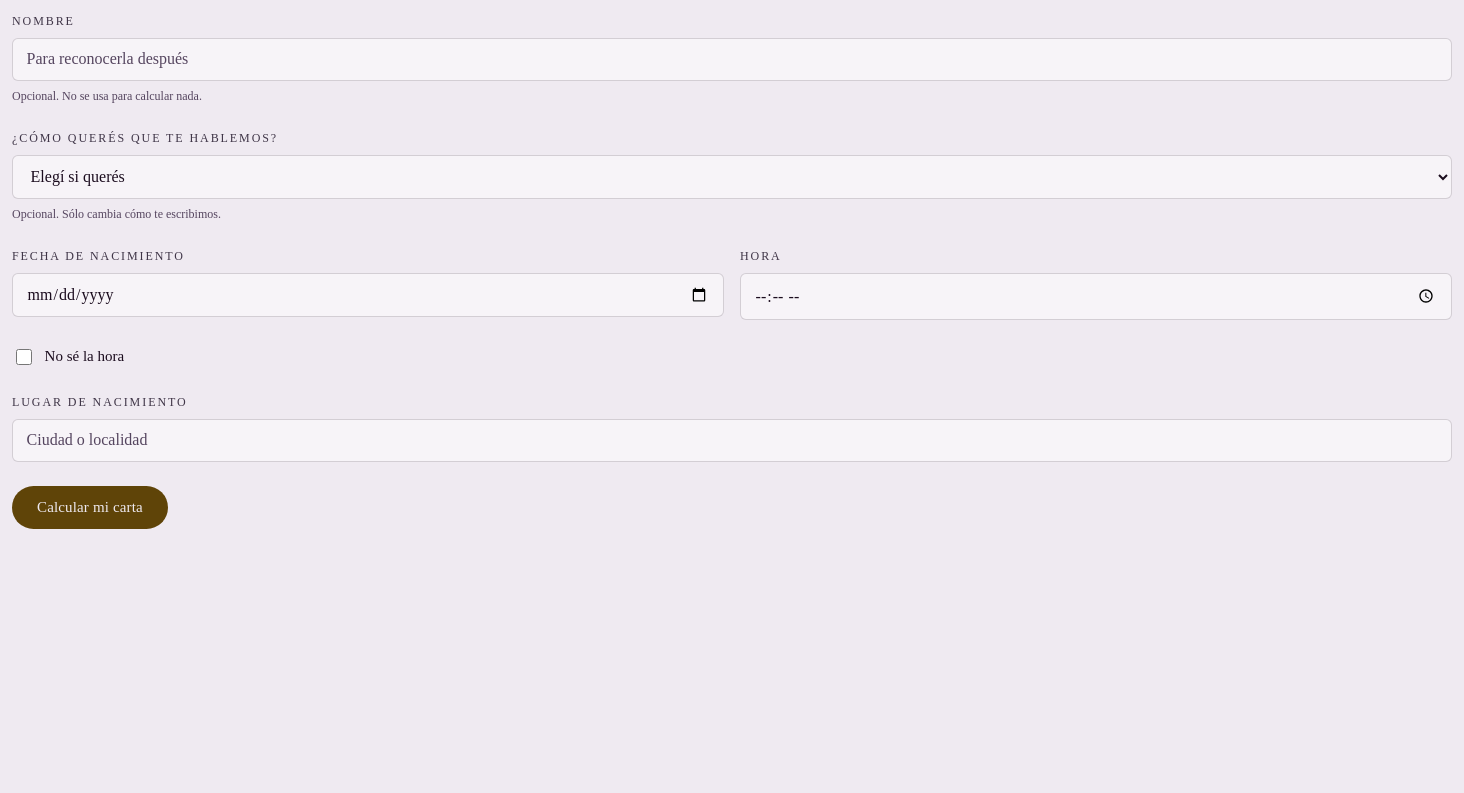
it: sin cuenta › tras el preview mide teaser_visto una sola vez, con la hora y las secciones
The width and height of the screenshot is (1464, 793).
Type "19:30" into the time field labelled "Hora".
click(1096, 297); type("19:30")  # box x1=740 y1=273 x2=1452 y2=320
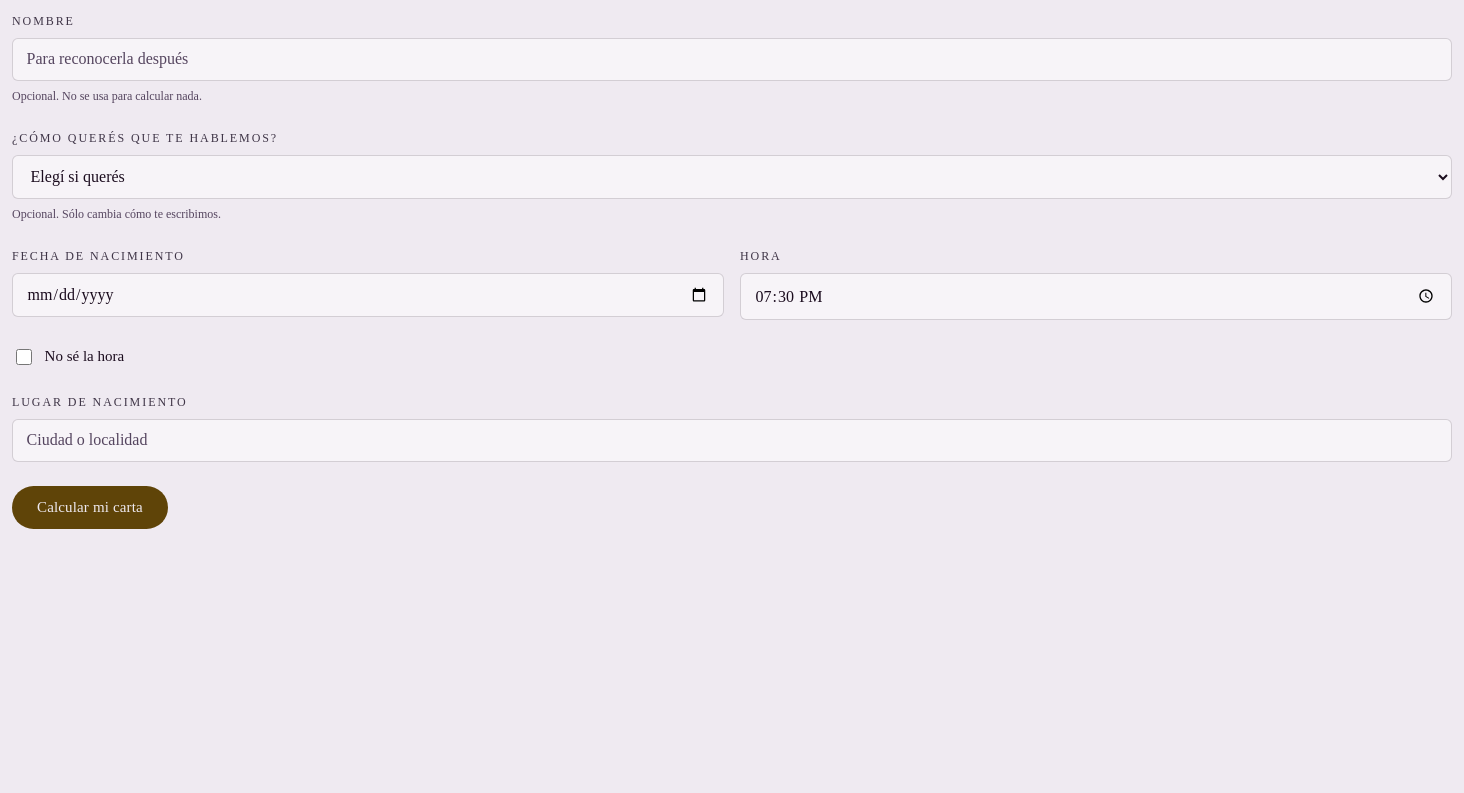
Type "1976-05-31" into the date field labelled "Fecha de nacimiento".
click(368, 295); type("1976-05-31")  # box x1=12 y1=273 x2=724 y2=318
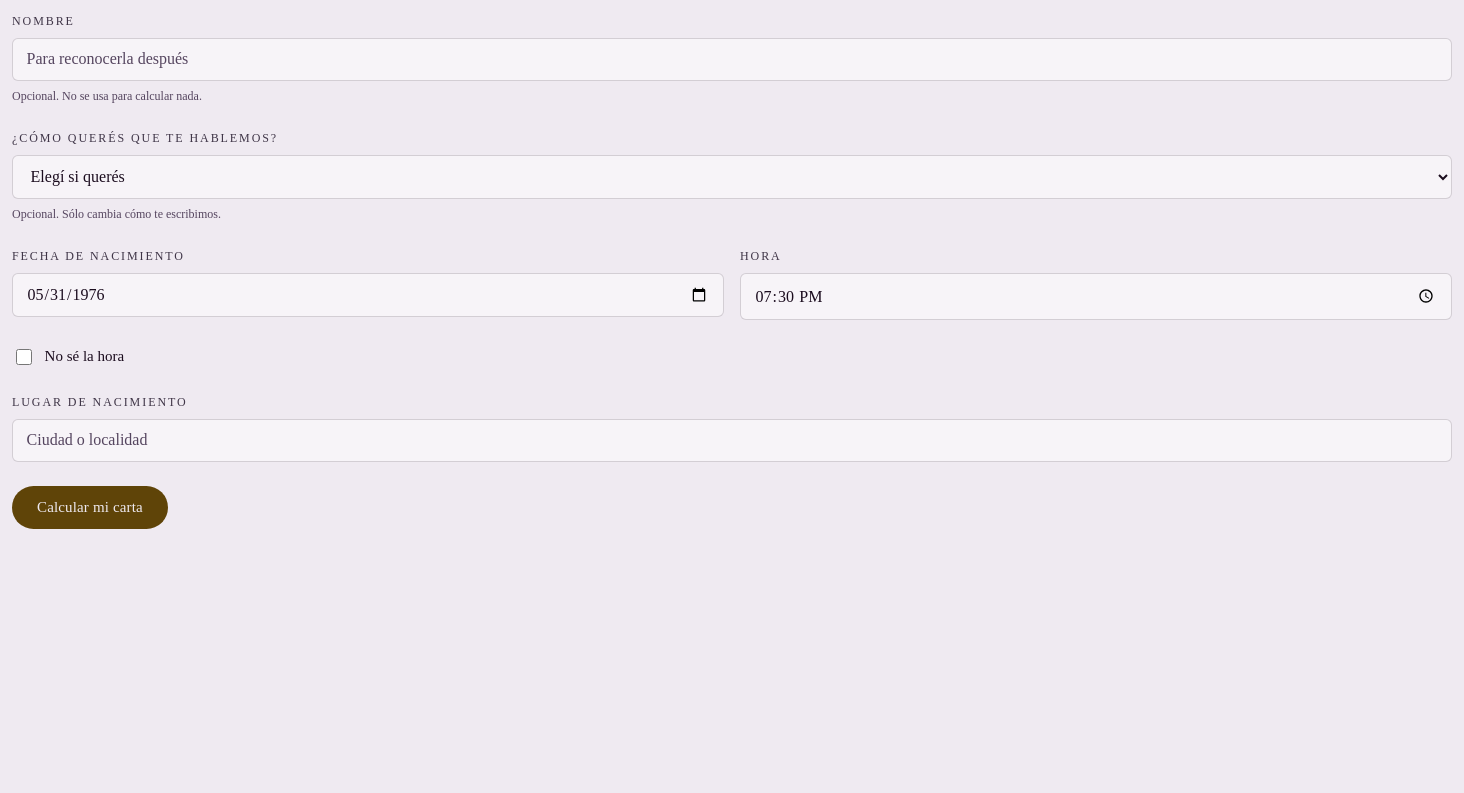
Type "rosario" into the field labelled "Lugar de nacimiento".
click(732, 440); type("rosario")  # box x1=12 y1=419 x2=1452 y2=462
Wait 400 ms
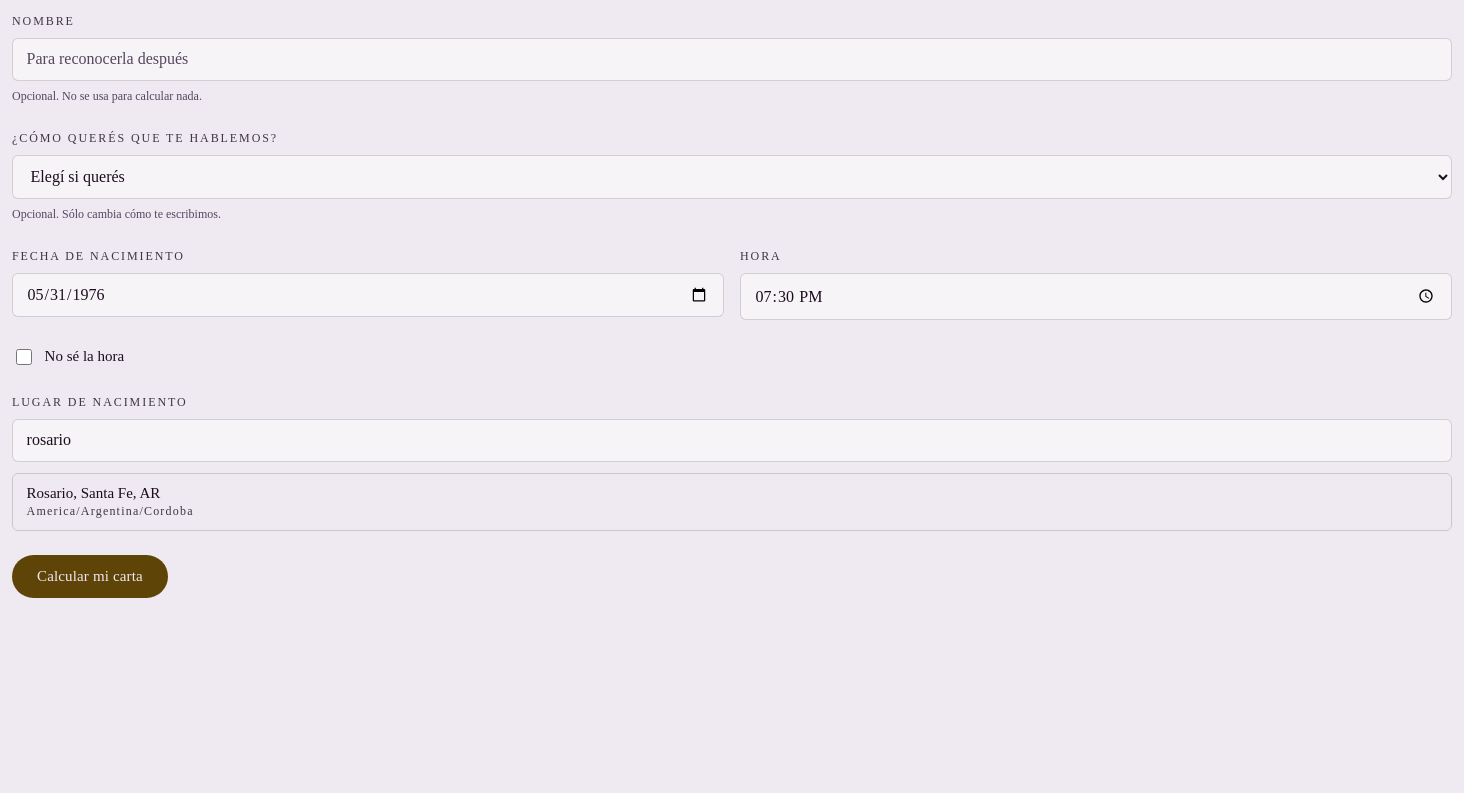
Click the button "Rosario, Santa Fe, AR America/Argentina/Cordoba".
click(93, 493)  # box x1=13 y1=474 x2=1451 y2=530
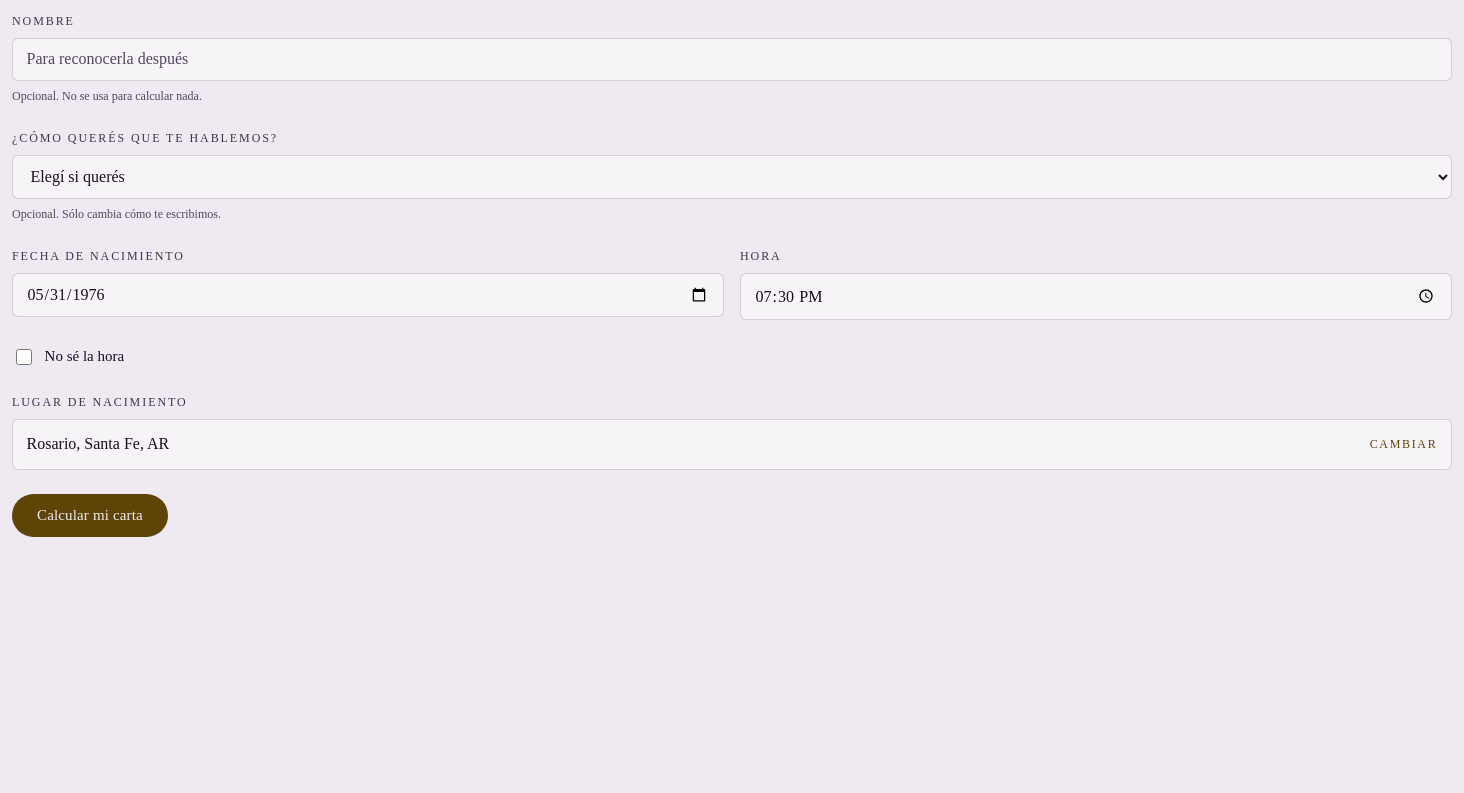
Click the button "Calcular mi carta".
click(90, 516)  # box x1=12 y1=494 x2=168 y2=537
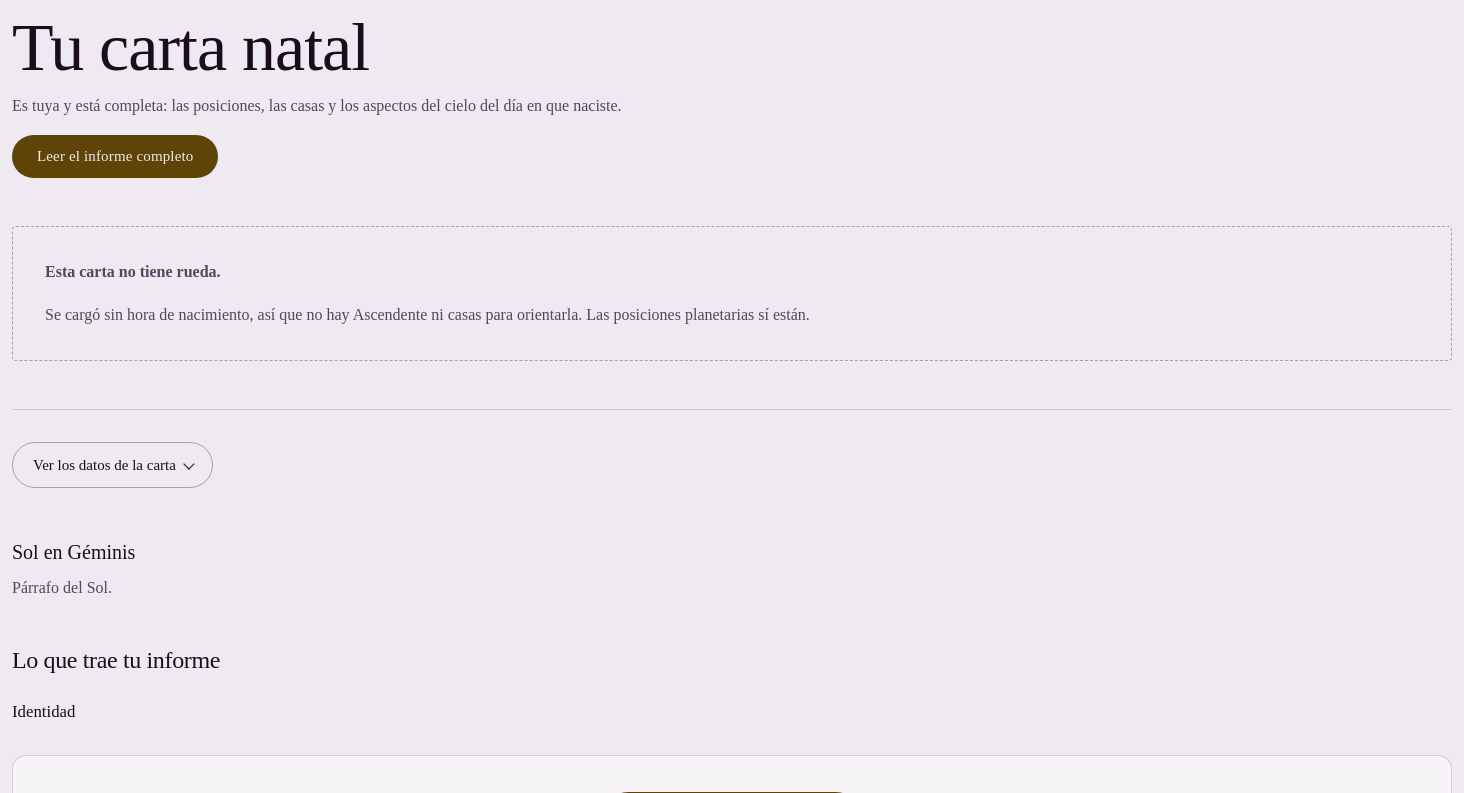
Check: the heading "Sol en Géminis" is shown, box x1=12 y1=541 x2=135 y2=563
